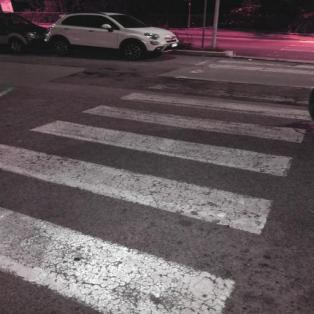Paso de Cebra: (17, 101, 312, 182)
